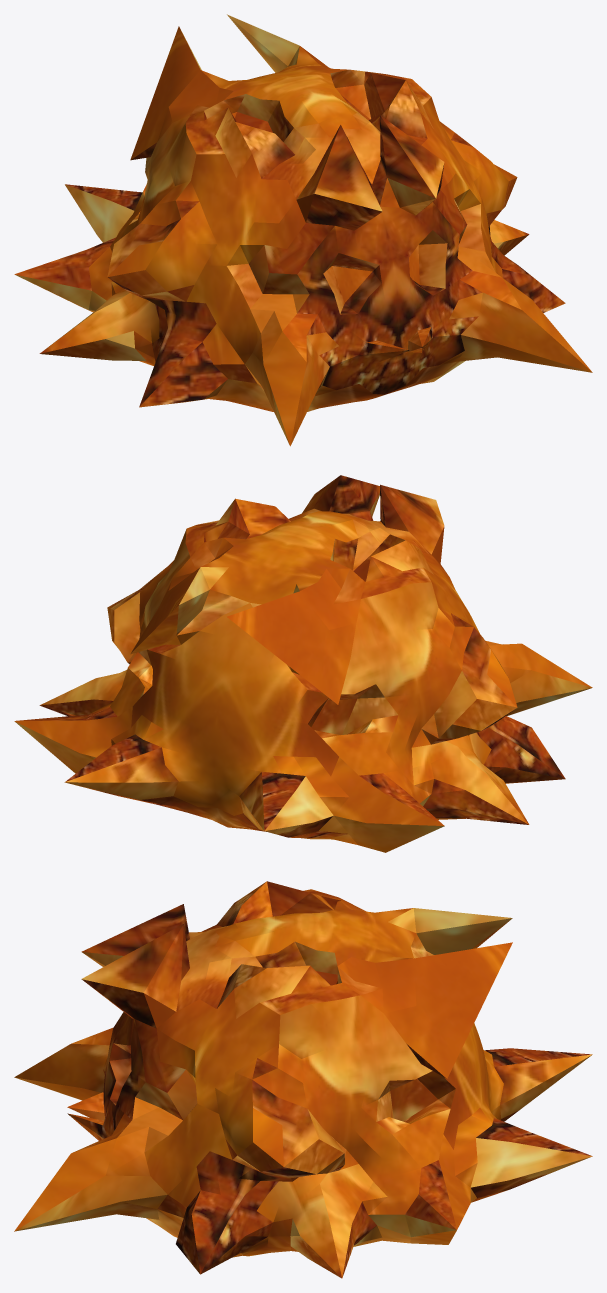
File: evil-bug-monster.dae
3 renders of one model, top to bottom at view 1: azimuth 30°, elevation 25°; view 2: azimuth 150°, elevation 25°; view 3: azimuth 270°, elevation 25°, orthographic. The views are drawn at different scales.
Parts seen in each view (by area): view 1: bug_obj_1; view 2: bug_obj_1; view 3: bug_obj_1.
Part boxes in pixels (bbox=[...]): bug_obj_1: bbox=[14, 14, 592, 446]; bug_obj_1: bbox=[14, 475, 592, 852]; bug_obj_1: bbox=[14, 881, 592, 1278].
Bounding box in the file's own units: 3.07 × 1.71 × 3.
1 material, 1 textured.
